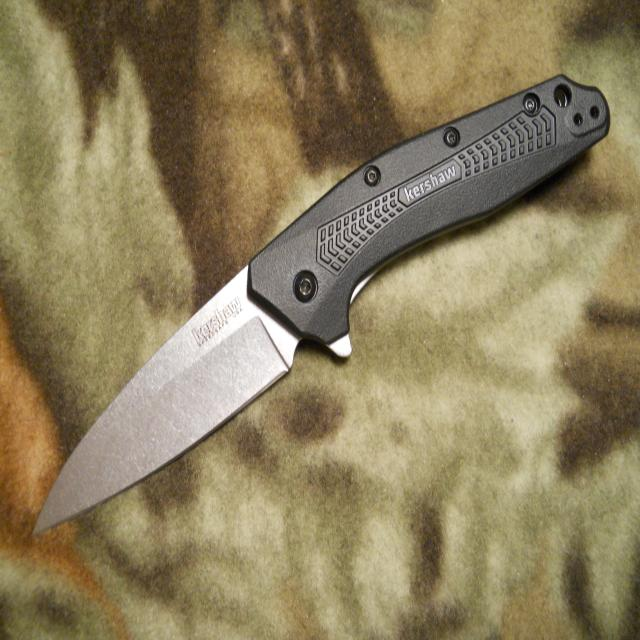knife: (31, 53, 618, 541)
